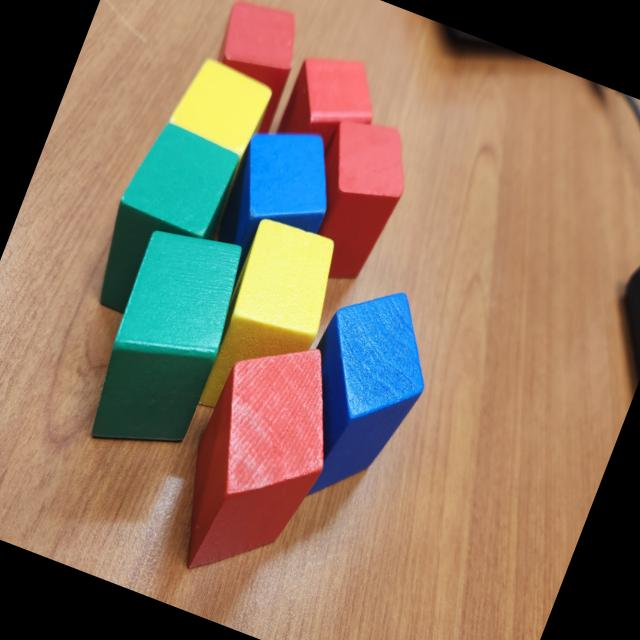blue: (266, 271, 454, 524), (209, 113, 354, 282)
green: (75, 213, 258, 470), (80, 116, 252, 336)
red: (152, 320, 362, 601), (280, 108, 424, 294), (192, 0, 312, 139), (273, 40, 392, 172)
yellow: (190, 213, 352, 437), (166, 52, 278, 159)
